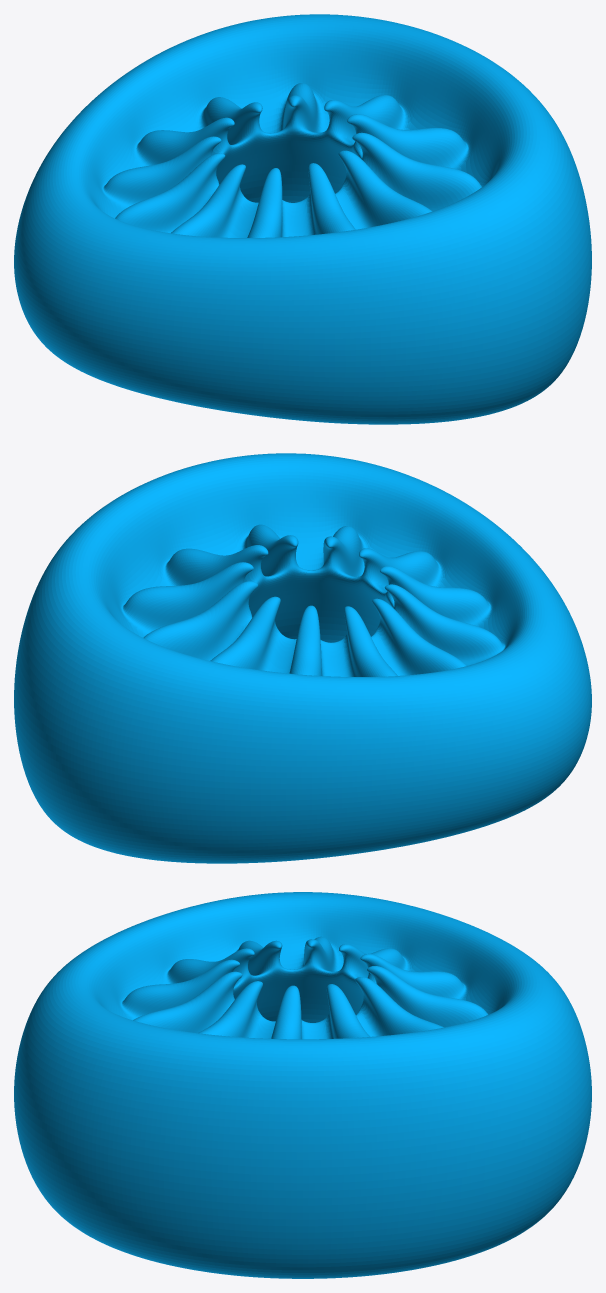
File: Core3d.glb
The picture shows the model from 3 angles, top to bottom: view 1: azimuth 30°, elevation 25°; view 2: azimuth 150°, elevation 25°; view 3: azimuth 270°, elevation 25°; orthographic projection. The views are drawn at different scales.
Visible parts, largest first — view 1: Torus; view 2: Torus; view 3: Torus.
Boxes of the visible parts, x1=… form: Torus: x1=14, y1=14, x2=591, y2=424; Torus: x1=14, y1=453, x2=591, y2=863; Torus: x1=14, y1=892, x2=591, y2=1278.
Size of the model in its own units: 3.89 by 1.8 by 4.02.
